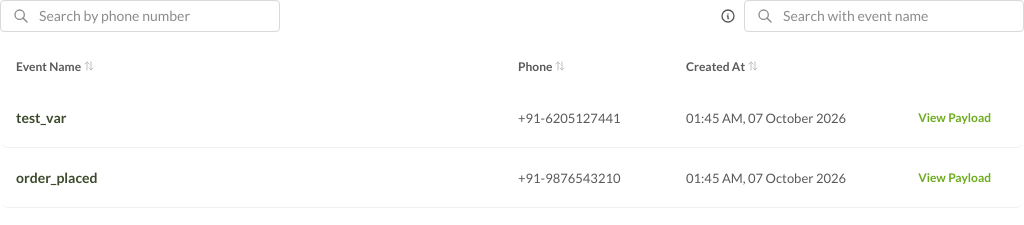
Test: EventsTable › filters by phone digits and event name, and shows an empty row
The width and height of the screenshot is (1024, 225).
Type "91 620" into the search field labelled "Search by phone number". click: [152, 16]
box: [37,5,267,27]
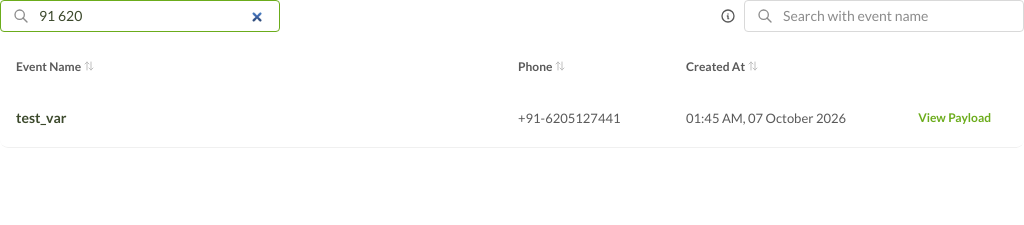
Expected: the text "test_var" is shown, [16,108,66,126]
Expected: the text "order_placed" is gone
Type "order" into the search field labelled "Search with event name". click: [896, 16]
box: [781,5,1011,27]
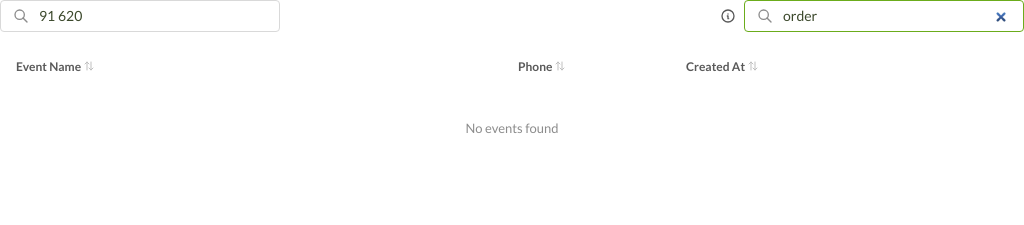
Expected: the text "No events found" is shown, [466,120,559,136]
